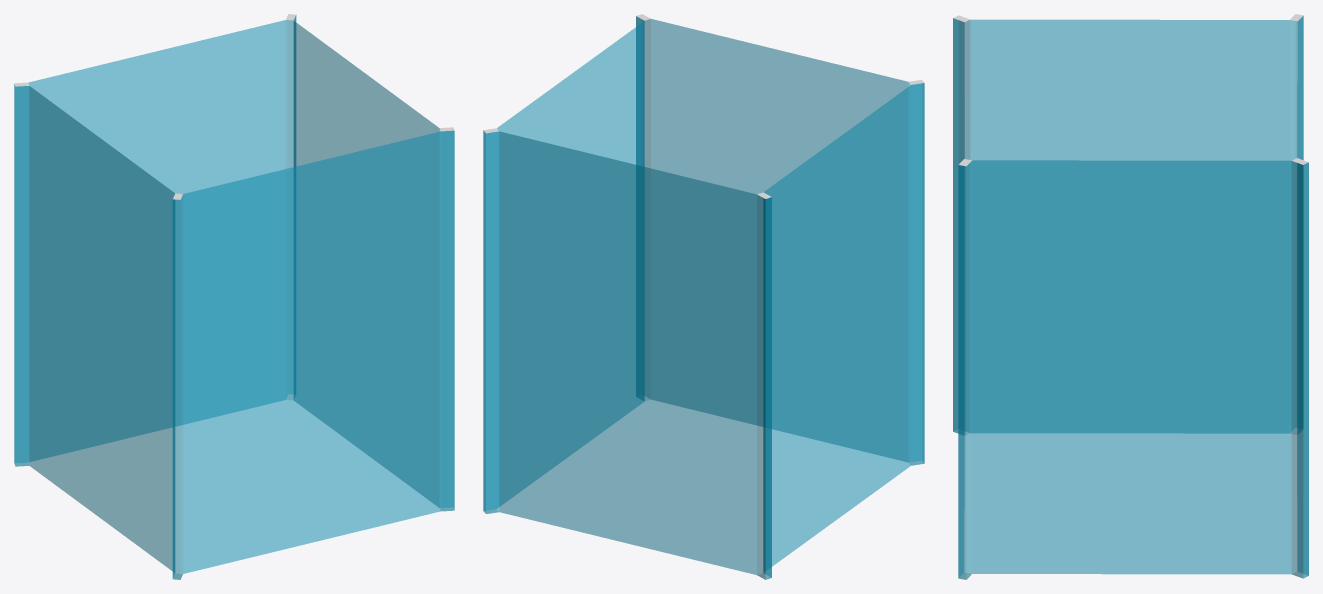
File: Building1Windows.fbx
3 views of the same model, side by side, from view 1: azimuth 30°, elevation 25°; view 2: azimuth 150°, elevation 25°; view 3: azimuth 270°, elevation 25° (orthographic). The views are drawn at different scales.
Visible parts, largest first — view 1: Windows1; view 2: Windows1; view 3: Windows1.
Boxes of the visible parts, x1=… form: Windows1: x1=14, y1=14, x2=454, y2=579; Windows1: x1=483, y1=14, x2=924, y2=579; Windows1: x1=953, y1=14, x2=1308, y2=579.
Bounding box in the file's own units: 790 × 1000 × 780.
